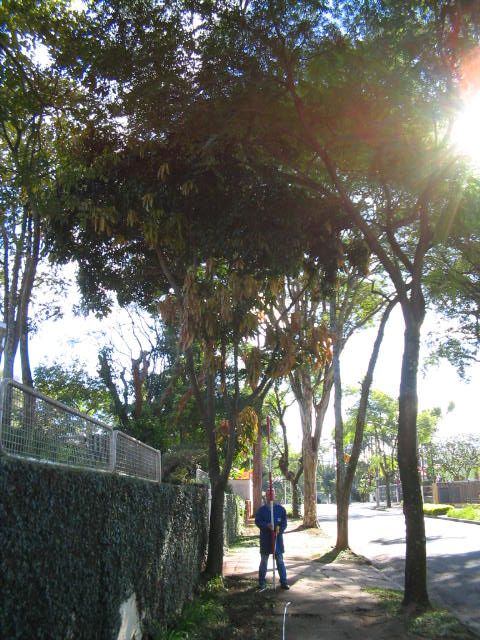crown: (49, 132, 371, 318)
stem: (195, 484, 233, 580)
stick: (262, 413, 279, 590)
tree: (46, 129, 372, 580)
